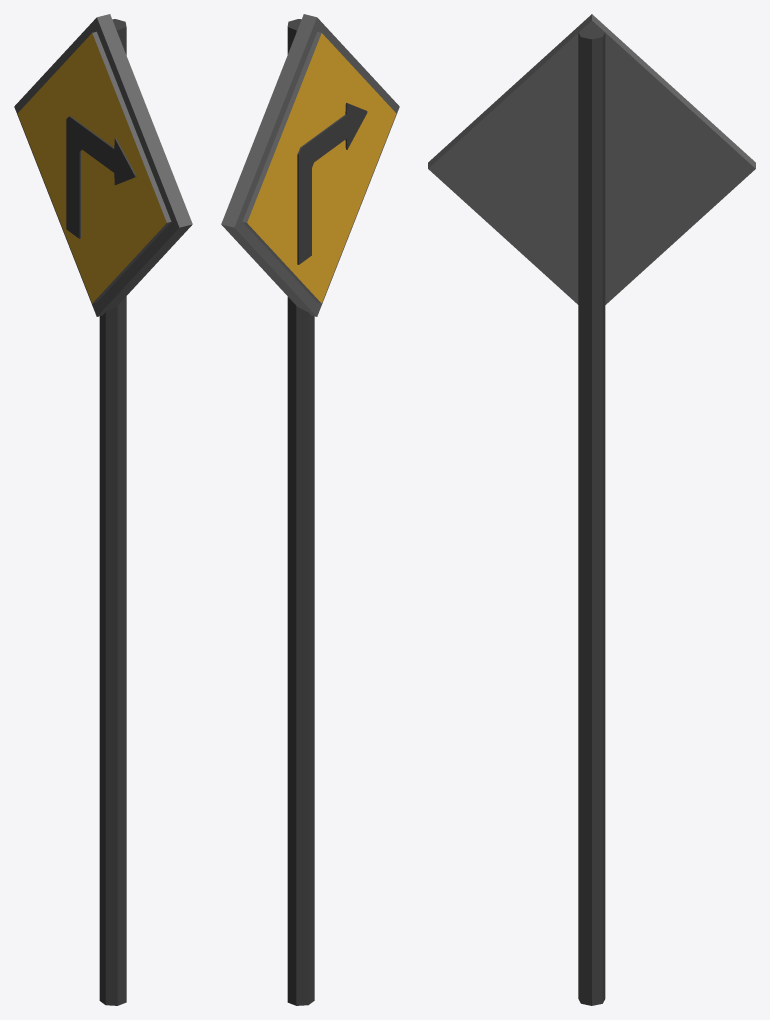
Rendered from TurnSign.fbx.
3 renders of one model, left to right at view 1: azimuth 30°, elevation 25°; view 2: azimuth 150°, elevation 25°; view 3: azimuth 270°, elevation 25°, orthographic.
Visible parts, largest first — view 1: TurnSign_LOD0; view 2: TurnSign_LOD0; view 3: TurnSign_LOD0.
Boxes of the visible parts, <box> form: TurnSign_LOD0: <box>14,14,192,1005</box>; TurnSign_LOD0: <box>221,14,399,1005</box>; TurnSign_LOD0: <box>428,14,755,1005</box>.
Size of what is drawn, in the model's own units: 25.66 by 694 by 211.
Materials: 1 (1 with a texture image).
